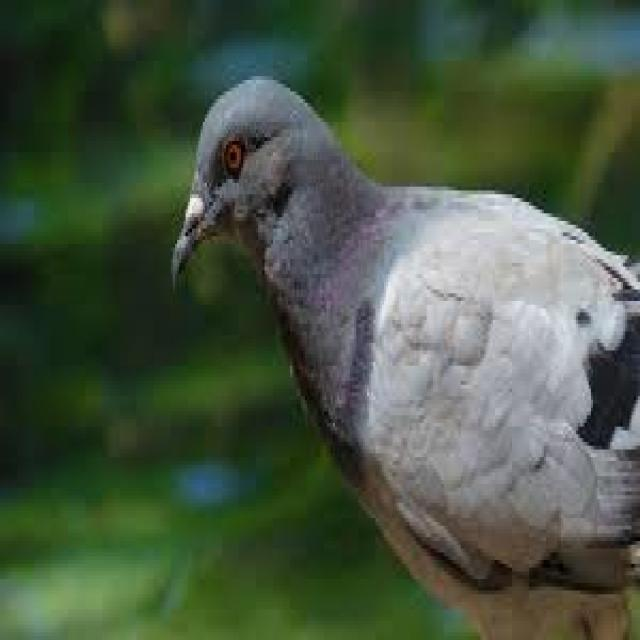pigeon: (160, 30, 640, 598)
